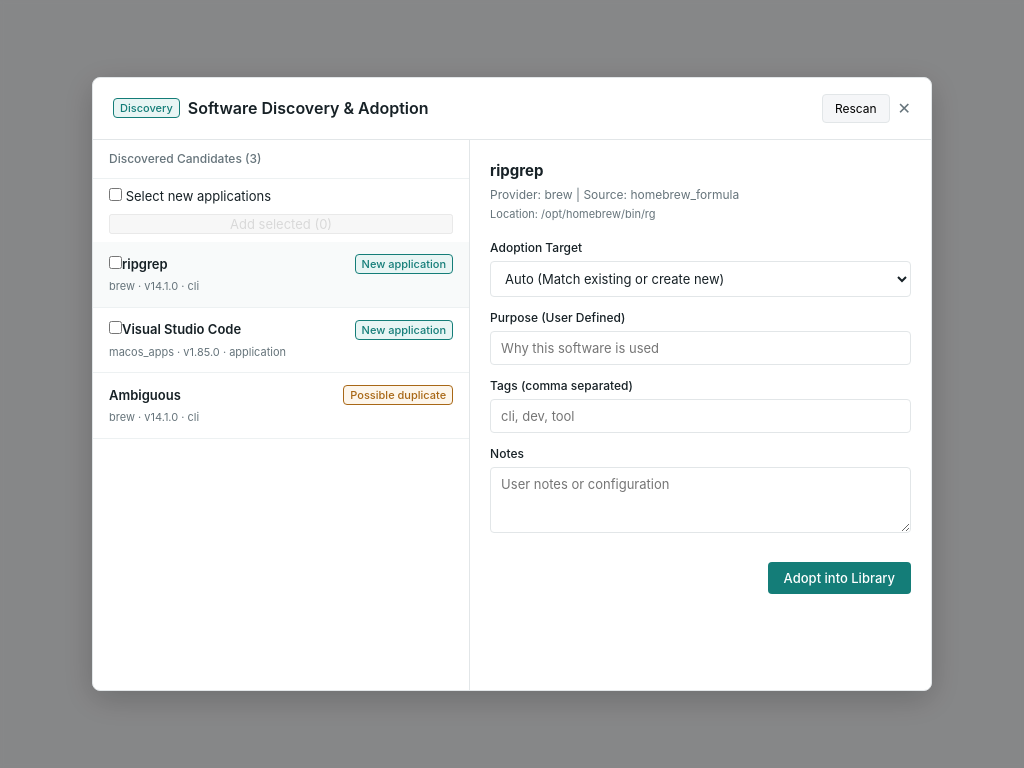
Test case: Personal workflows › batch adds only unambiguous new applications and marks them as adopted
The image size is (1024, 768).
expect the element with test id "discovery-candidate-ripgrep" is shown: met, box left=93, top=242, right=469, bottom=308
Click the checkbox labelled "Select new applications" at (116, 194), box left=109, top=188, right=122, bottom=201
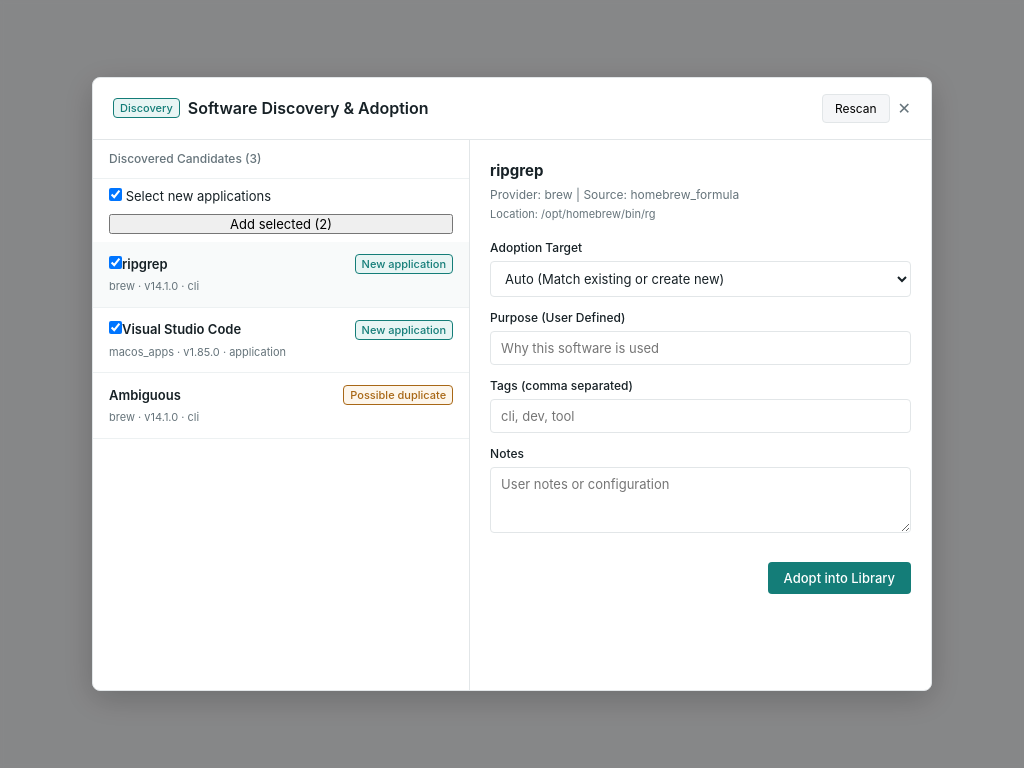
Click the button with test id "batch-adopt-button" at (281, 224), box left=109, top=214, right=453, bottom=234
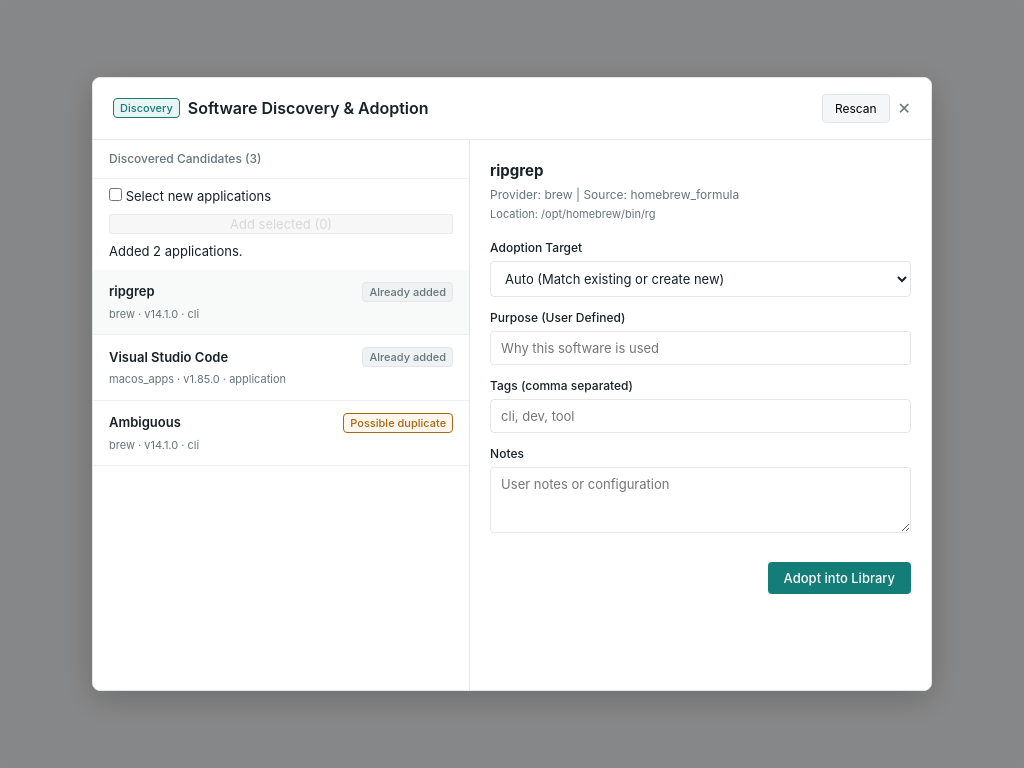
expect the text "Added 2 applications." is shown: met, box left=109, top=243, right=242, bottom=259
expect the button with test id "batch-adopt-button" is disabled: met, box left=109, top=214, right=453, bottom=234
